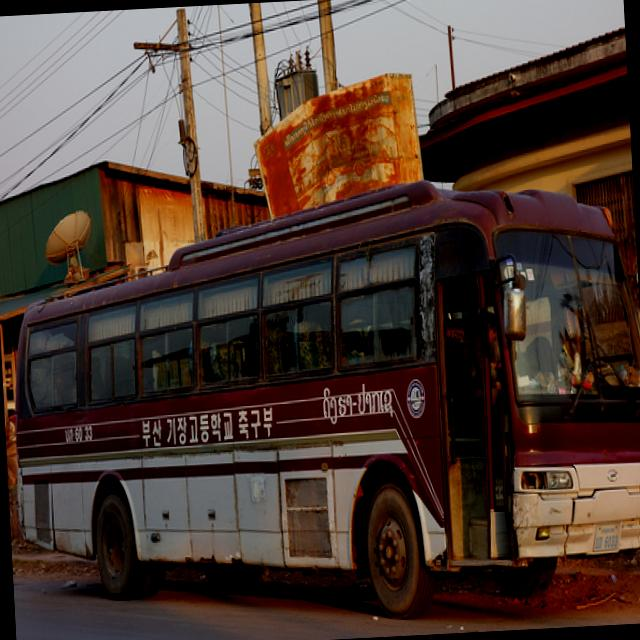Vehicle: (1, 169, 640, 638)
